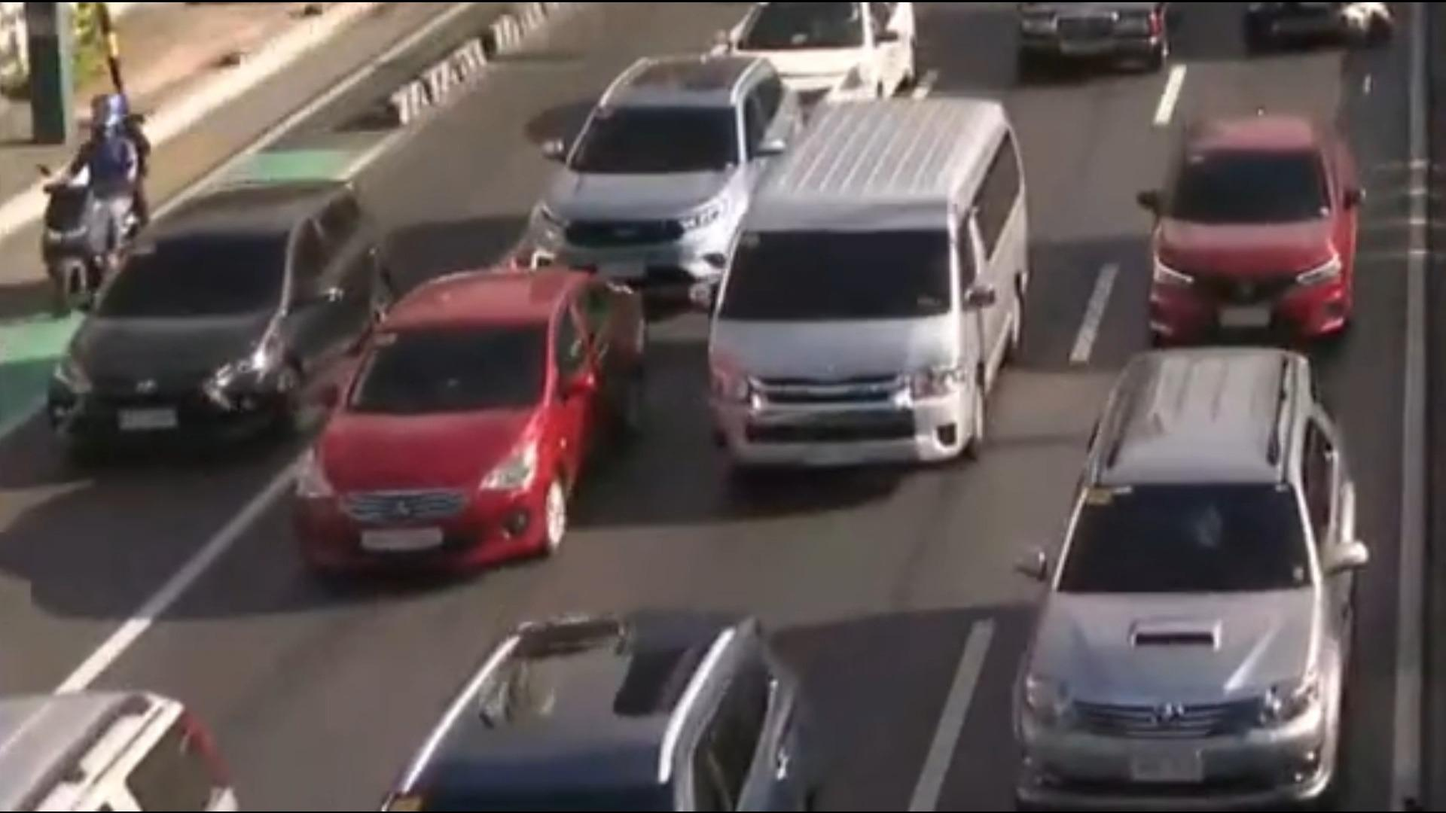Motorcycle: (19, 81, 179, 330)
SUV: (965, 349, 1394, 797), (0, 142, 401, 483), (343, 601, 861, 813), (494, 55, 814, 310)
Sedan: (293, 269, 676, 565), (1119, 93, 1412, 358)
Van: (664, 89, 1047, 499)
